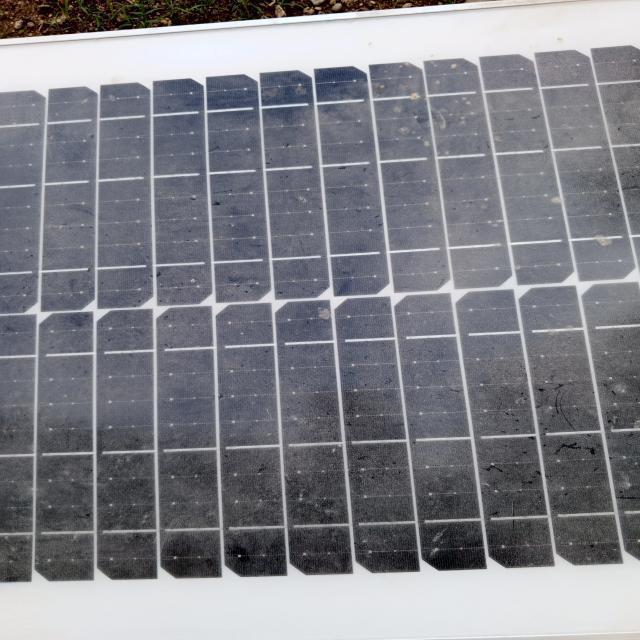Anomaly Solar Panel: (14, 73, 639, 593)
Surface Contaminant: (14, 73, 639, 593)
